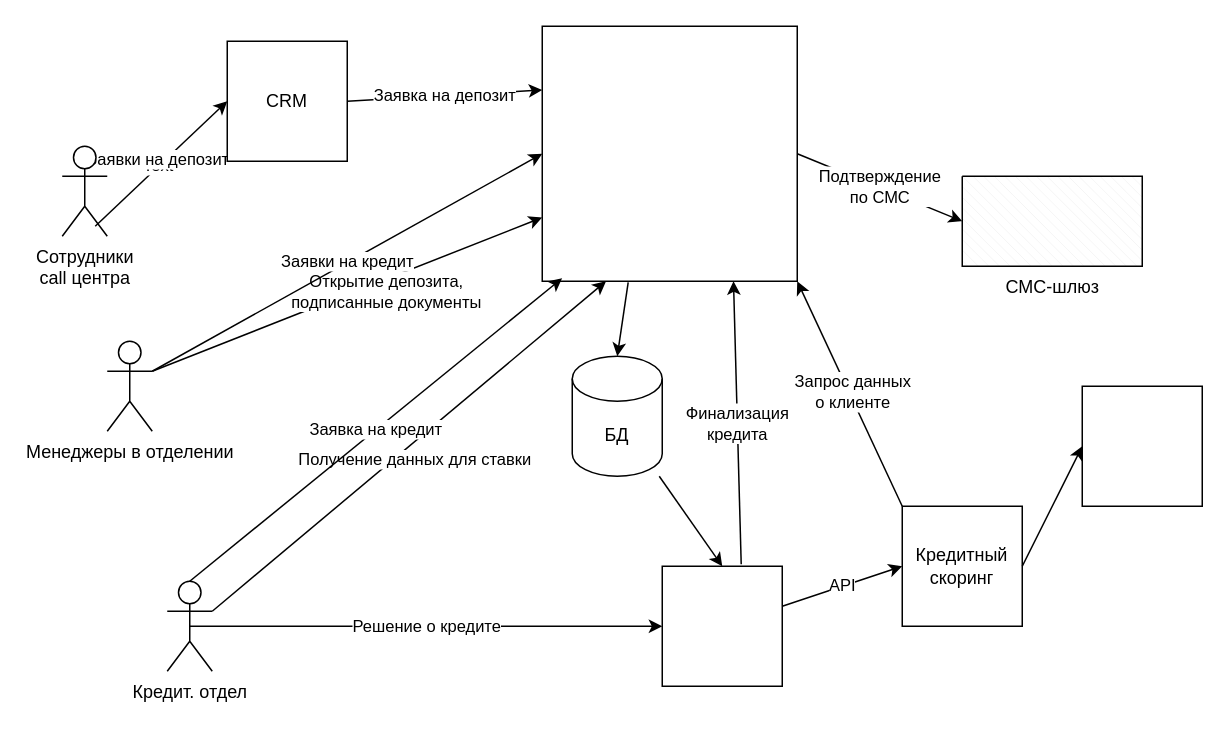
This 1229x729 diagram has some shape labels left out. Here are the shapes that lost their labels. From the top down, the centre of each, then its label:
(x=669, y=153): АБС
(x=1141, y=445): Бюро кредитных историй
(x=721, y=625): Кредитный конвейер
